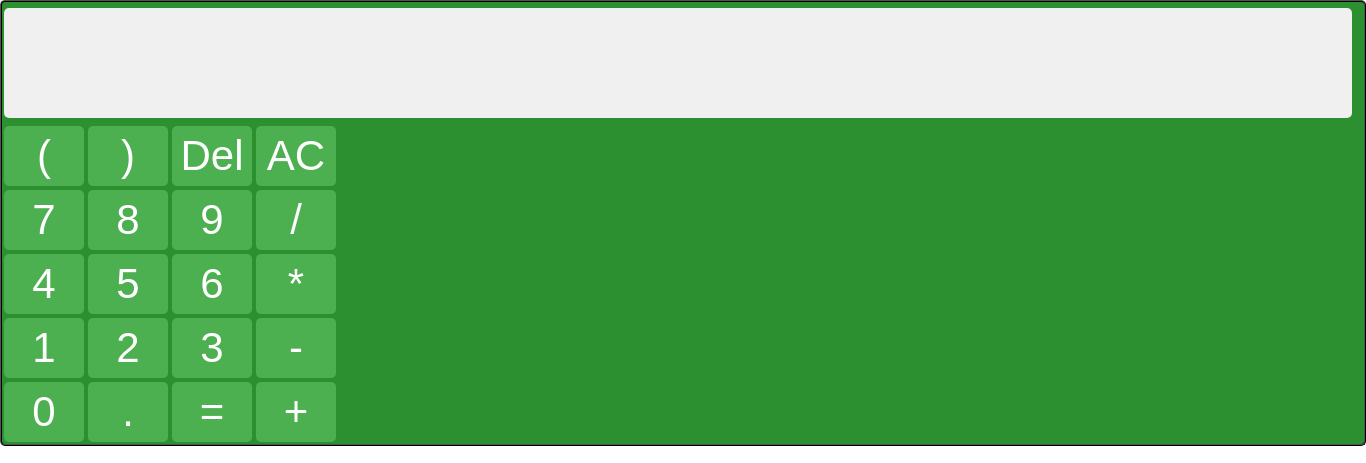
Test: Calc › updates display when character key is pressed
Click the button with test id "input-key-5".
click(128, 284)  # box [88,254,168,314]
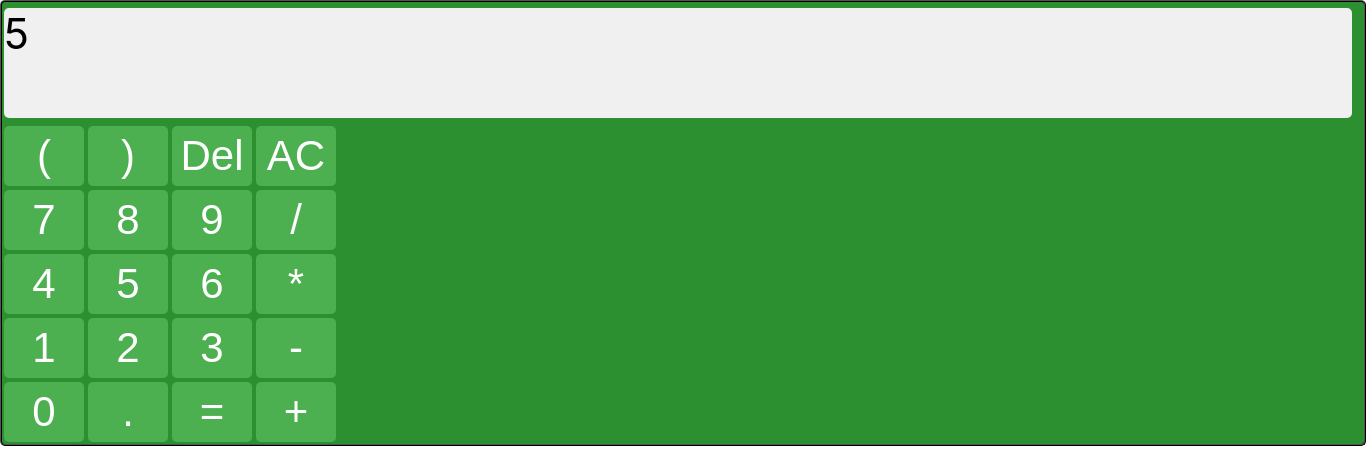
Now the text with test id "display-expression" reads "5", box [4,8,29,59]
